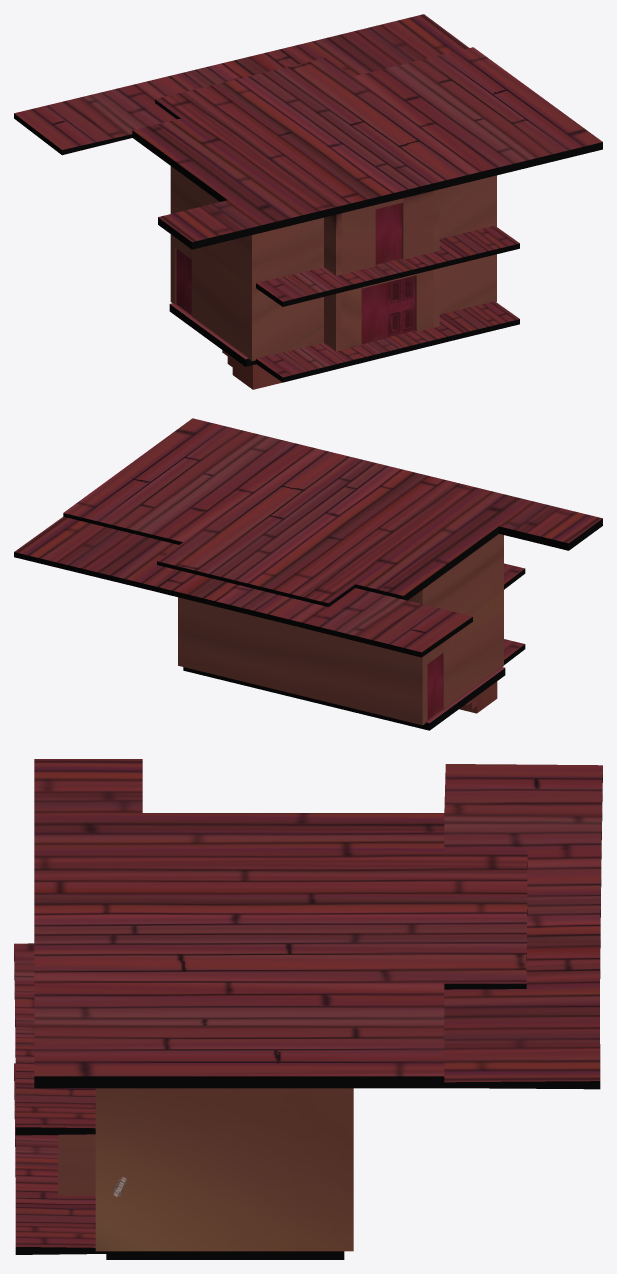
File: casinhap8.fbx
3 renders of one model, top to bottom at view 1: azimuth 30°, elevation 25°; view 2: azimuth 150°, elevation 25°; view 3: azimuth 270°, elevation 25°, orthographic. The views are drawn at different scales.
Visible parts, largest first — view 1: chao andar de cima.002, parede2, chao andar de cima.001, chao andar de cima, Cube.010, Cube.012, Cube.011, degraus, Cube.009; view 2: chao andar de cima.002, parede2, chao andar de cima.001, Cube.009, degraus; view 3: chao andar de cima.002, parede2, chao andar de cima.001, chao andar de cima.
Boxes of the visible parts, x1,y1,x2,y2 form: chao andar de cima.002: [14, 14, 602, 249]; parede2: [170, 166, 496, 361]; chao andar de cima.001: [169, 301, 519, 382]; chao andar de cima: [256, 225, 519, 306]; Cube.010: [361, 282, 388, 344]; Cube.012: [375, 203, 401, 264]; Cube.011: [388, 275, 414, 336]; degraus: [222, 350, 282, 389]; Cube.009: [176, 248, 191, 314]; chao andar de cima.002: [14, 418, 602, 657]; parede2: [178, 534, 503, 725]; chao andar de cima.001: [183, 639, 525, 730]; Cube.009: [427, 653, 442, 719]; degraus: [459, 681, 497, 713]; chao andar de cima.002: [34, 759, 602, 1089]; parede2: [58, 1088, 353, 1251]; chao andar de cima.001: [14, 1063, 344, 1259]; chao andar de cima: [14, 943, 95, 1135].
Bounding box in the file's own units: 2574 × 1104 × 2020.
91 materials, 91 textured.
